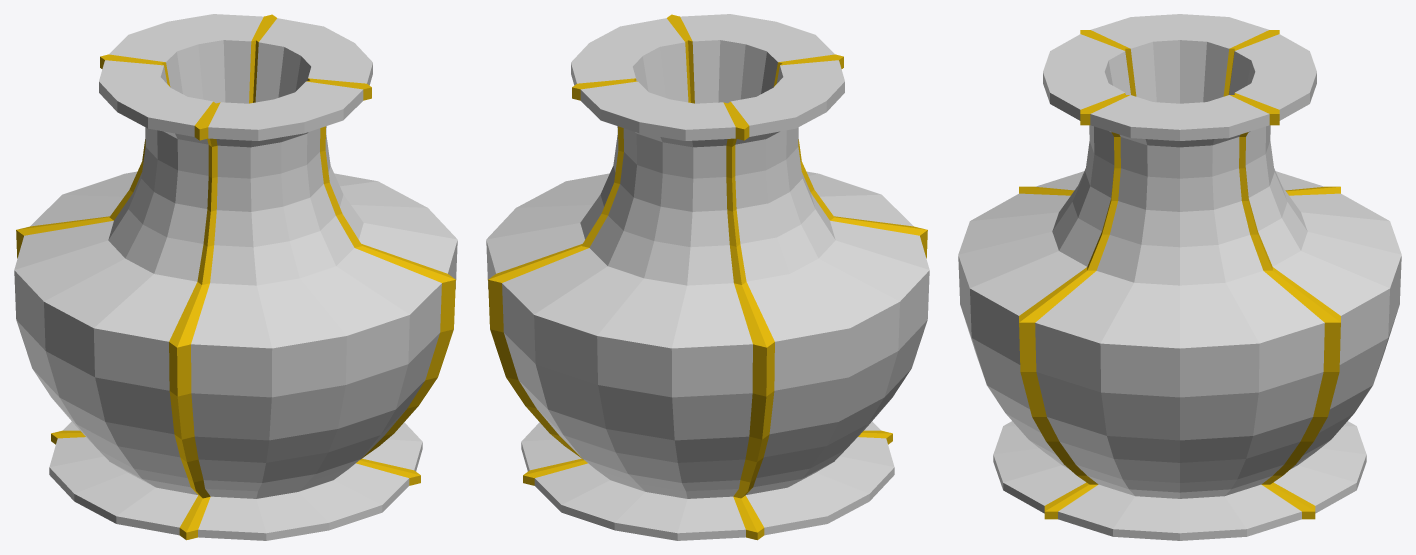
Rendered from SquareVase.fbx.
The picture shows the model from 3 angles, left to right: view 1: azimuth 30°, elevation 25°; view 2: azimuth 150°, elevation 25°; view 3: azimuth 270°, elevation 25°; orthographic projection.
Parts seen in each view (by area): view 1: Cube; view 2: Cube; view 3: Cube.
Boxes of the visible parts, x1,y1,x2,y2 form: Cube: [14, 14, 457, 540]; Cube: [486, 14, 929, 540]; Cube: [958, 14, 1401, 540].
Bounding box in the file's own units: 220 × 214 × 220.
